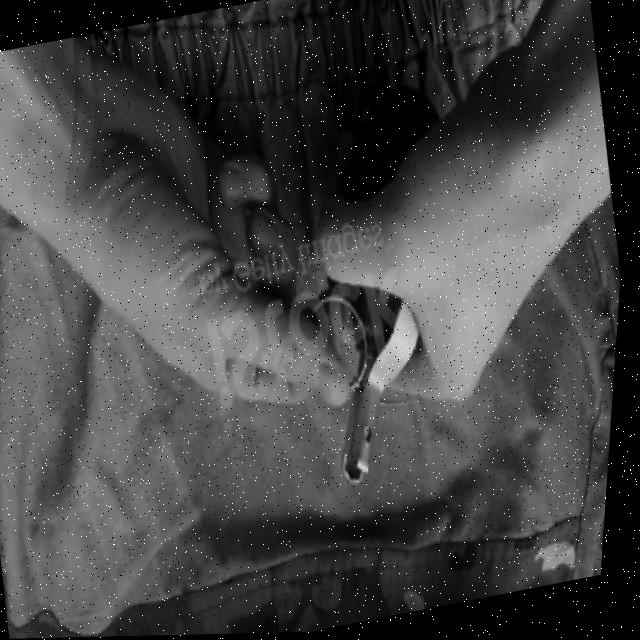grenade: (256, 71, 536, 497)
